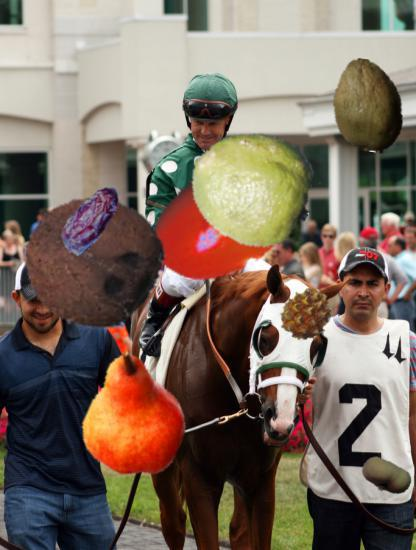Cocos: (20, 189, 168, 337)
Dates: (50, 179, 130, 259)
Kaki: (149, 160, 282, 293)
Limes: (190, 124, 315, 249)
Papaya: (323, 60, 415, 152)
Peach: (360, 451, 412, 503)
Pear: (79, 360, 197, 478)
Pineapple: (280, 287, 335, 342)
